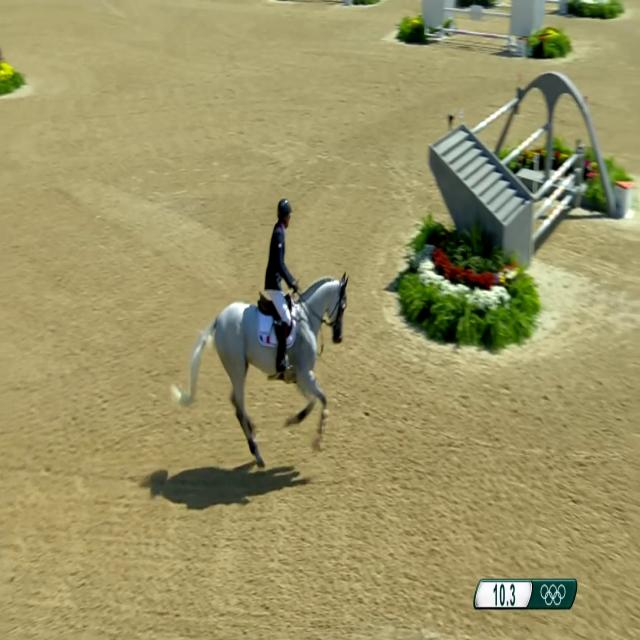Horse Rider: (263, 169, 306, 399)
Horse Running: (163, 242, 355, 481)
